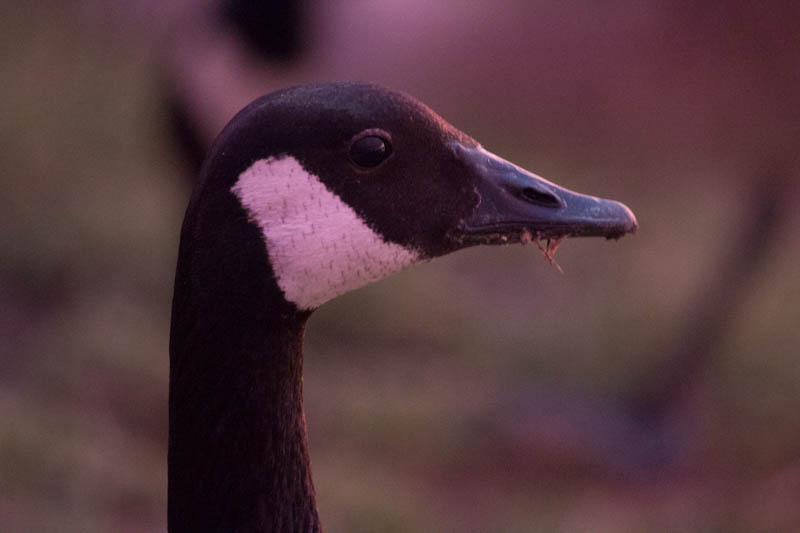goose-head: (171, 84, 637, 309)
